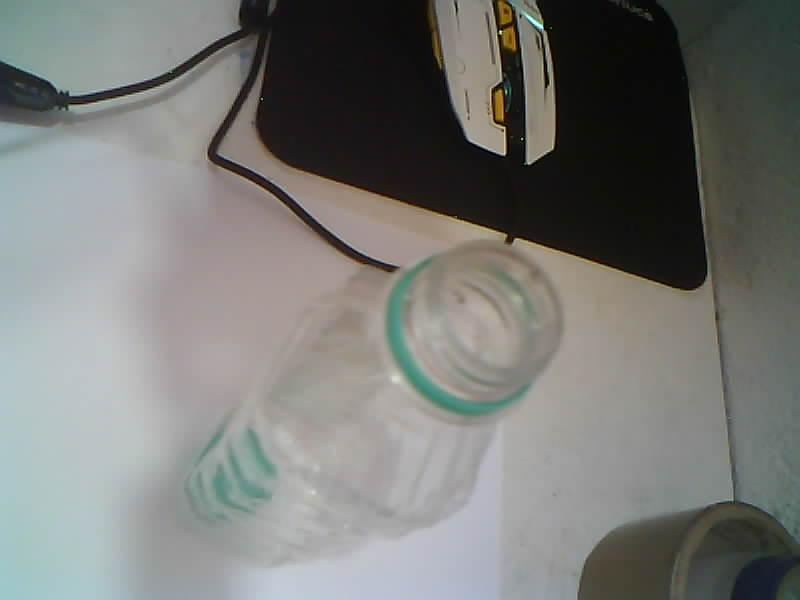non-biodegradable: (183, 241, 561, 566)
